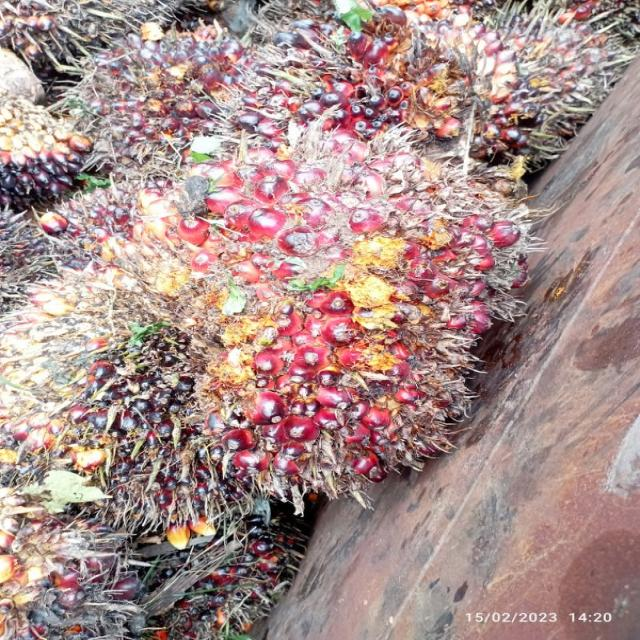fraksi 00: (8, 255, 335, 585)
fraksi 3: (98, 96, 579, 523)
